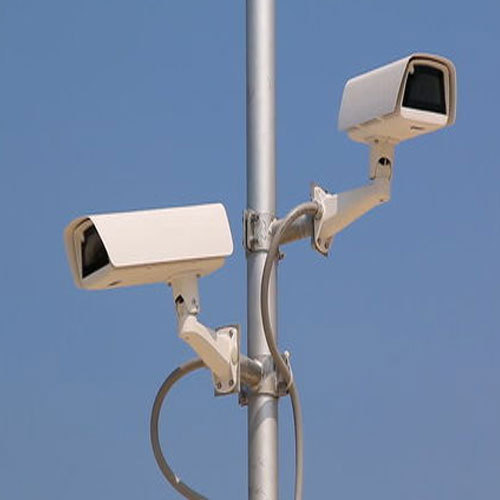CC Camera: (60, 202, 243, 291), (334, 50, 459, 147)
